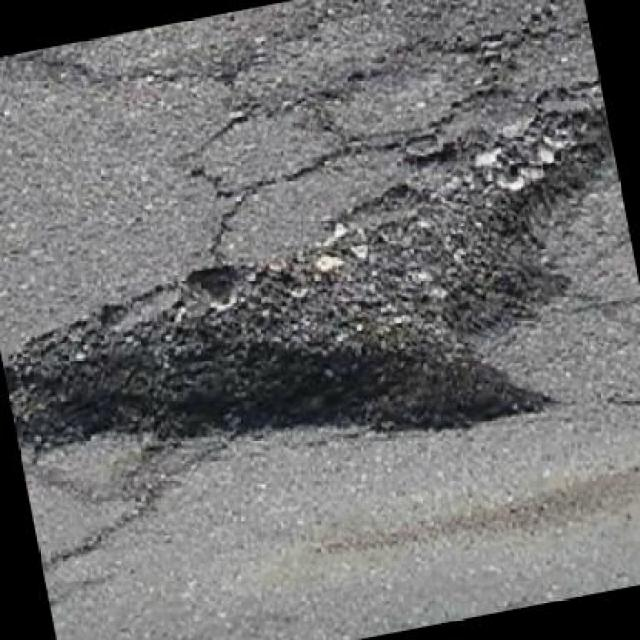pothole1: (0, 72, 638, 519)
